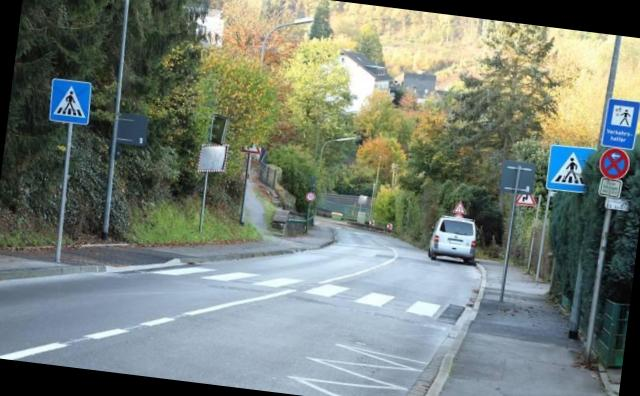crosswalk-sign: (545, 143, 597, 195), (48, 78, 95, 127)
